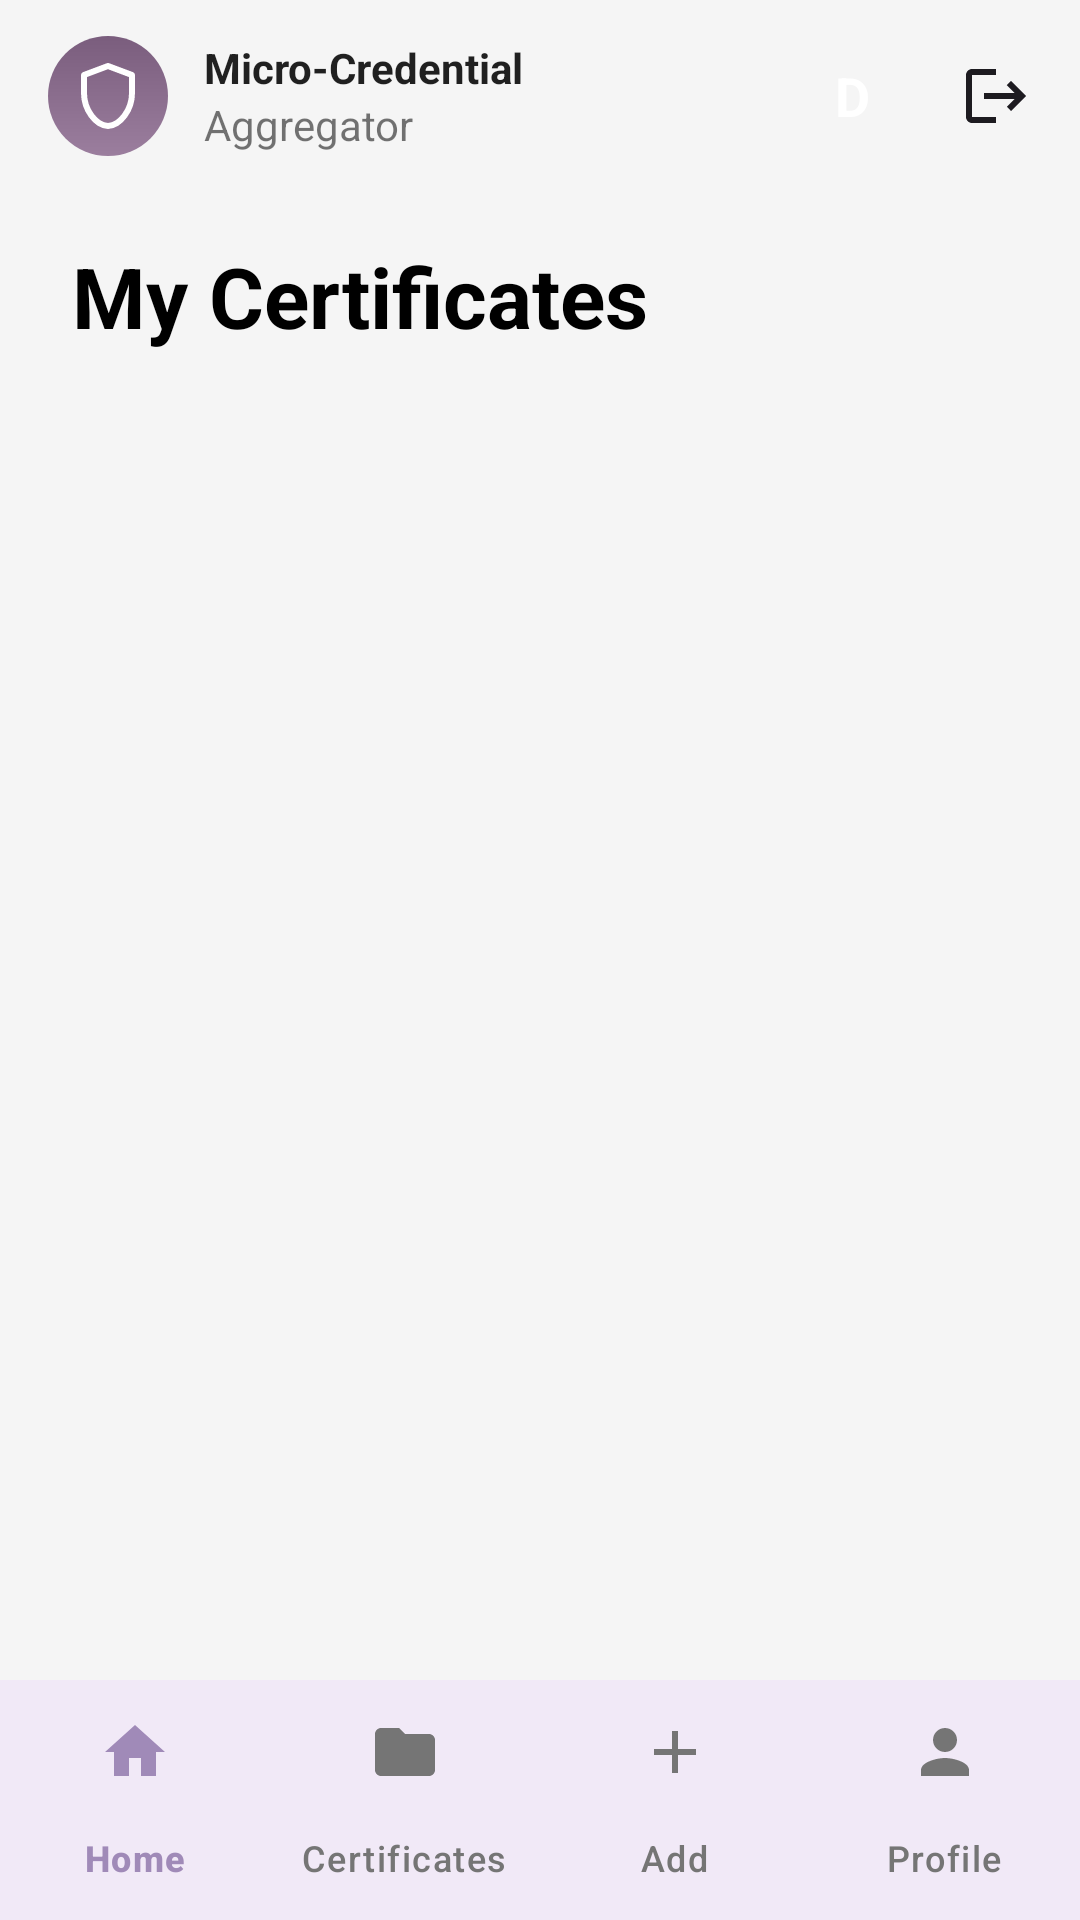

Icons on this 1080w x 1920h Android screen, each with the point to tap as point (x, y):
shield: point (108, 96)
